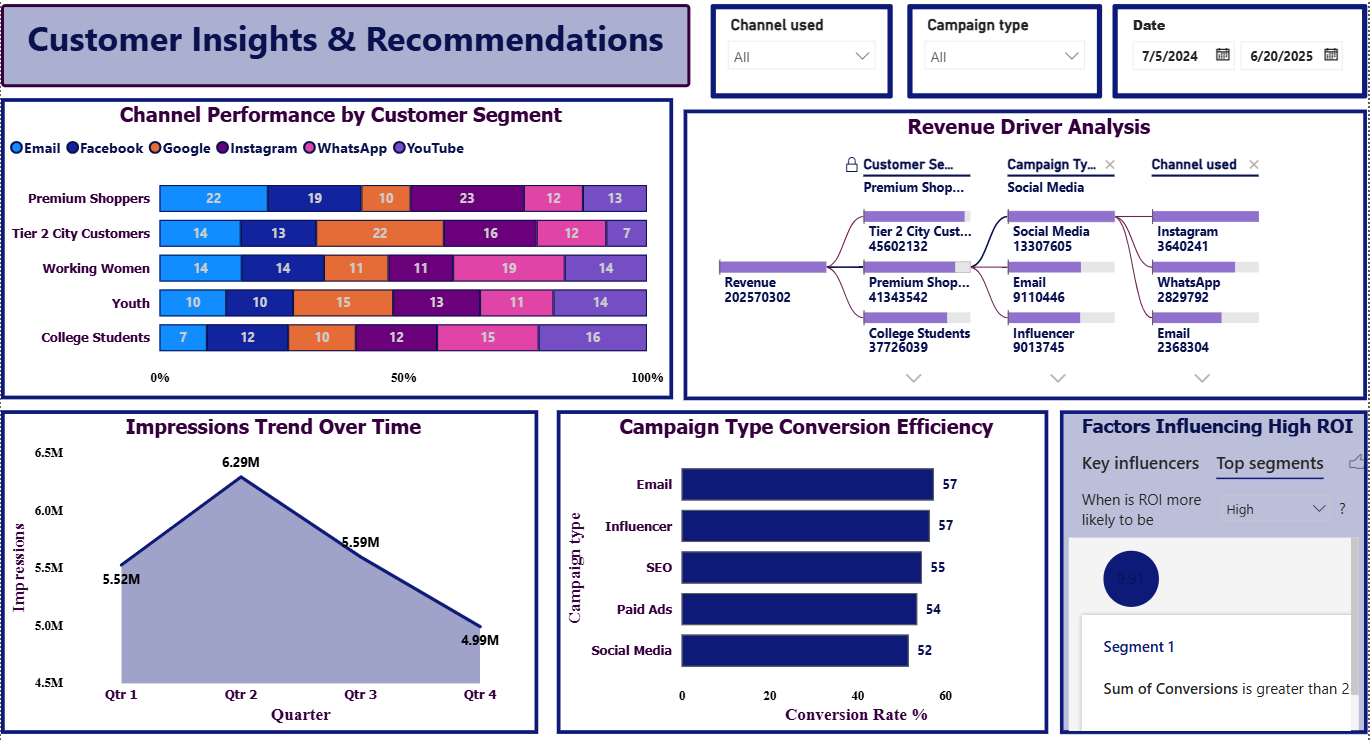

The page's visual inventory and layout, read from the dashboard file:
{"tool":"powerbi","page":{"name":"Page 3","canvas":[1280,720],"ordinal":2},"visuals":[{"type":"hundredPercentStackedBarChart","title":"Channel Performance by Customer Segment","fields":{"Category":["mediacampaign campaign_data.Customer_Segment"],"Series":["mediacampaign campaign_data.Channel_Used"],"Y":["CountNonNull(mediacampaign campaign_data.Campaign_ID)"]},"box":[0,113.3,629.5,282.4],"z":0},{"type":"keyDriversVisual","title":"Factors Influencing High ROI","fields":{"Target":["mediacampaign campaign_data.ROI"],"ExplainBy":["mediacampaign campaign_data.Channel_Used","mediacampaign campaign_data.Campaign_Type","Sum(mediacampaign campaign_data.Conversions)","Sum(mediacampaign campaign_data.Leads)"]},"box":[991.3,406,288.3,303],"z":1000},{"type":"areaChart","title":"Impressions Trend Over Time","fields":{"Y":["Sum(mediacampaign campaign_data.Impressions)"],"Category":["mediacampaign campaign_data.Date.Variation.Date Hierarchy.Quarter"]},"box":[0,406,503,303],"z":2000},{"type":"textbox","box":[0,25,645.7,78],"z":3000},{"type":"slicer","fields":{"Values":["mediacampaign campaign_data.Date"]},"box":[1041.4,25,238.3,88.3],"z":4000},{"type":"slicer","fields":{"Values":["mediacampaign campaign_data.Campaign_Type"]},"box":[848.7,25,182.4,88.3],"z":5000},{"type":"slicer","fields":{"Values":["mediacampaign campaign_data.Channel_Used"]},"box":[664.8,25,170.6,88.3],"z":6000},{"type":"decompositionTreeVisual","title":"Revenue Driver Analysis","fields":{"Analyze":["Sum(mediacampaign campaign_data.Revenue)"],"ExplainBy":["mediacampaign campaign_data.Customer_Segment","mediacampaign campaign_data.Campaign_Type","mediacampaign campaign_data.Channel_Used"]},"box":[639.8,123.6,639.8,272.1],"z":7000},{"type":"barChart","title":" Campaign Type Conversion Efficiency","fields":{"Category":["mediacampaign campaign_data.Campaign_Type"],"Y":["mediacampaign campaign_data.Conversion Rate %"]},"box":[520.7,406,460.4,303],"z":8000}]}

Visuals, with their boxes in screenshot pixels (x1, y1, x2, y2):
"Channel Performance by Customer Segment" hundredPercentStackedBarChart: detection(11, 98, 675, 396)
"Factors Influencing High ROI" keyDriversVisual: detection(1056, 407, 1360, 726)
"Impressions Trend Over Time" areaChart: detection(11, 407, 541, 726)
textbox: detection(11, 5, 692, 87)
slicer - mediacampaign campaign_data.Date: detection(1109, 5, 1360, 98)
slicer - mediacampaign campaign_data.Campaign_Type: detection(906, 5, 1098, 98)
slicer - mediacampaign campaign_data.Channel_Used: detection(712, 5, 892, 98)
"Revenue Driver Analysis" decompositionTreeVisual: detection(685, 109, 1360, 396)
" Campaign Type Conversion Efficiency" barChart: detection(560, 407, 1045, 726)
